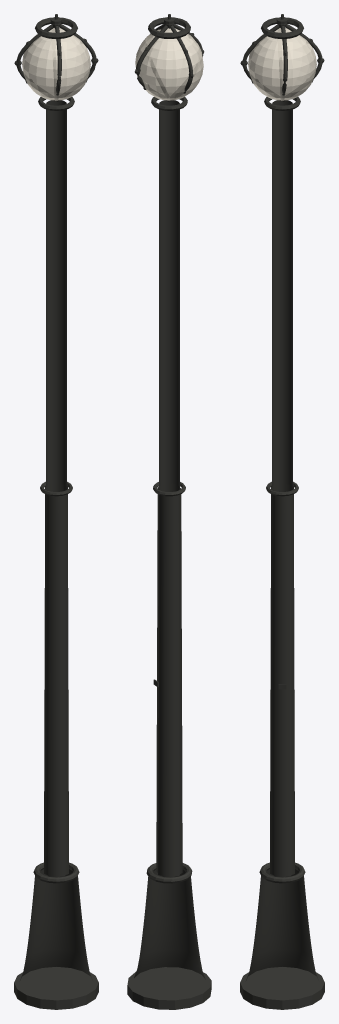
Rendered from cp_lamppost.glb.
3 views of the same model, side by side, from view 1: azimuth 90°, elevation 25°; view 2: azimuth 210°, elevation 25°; view 3: azimuth 270°, elevation 25° (orthographic).
Visible parts, largest first — view 1: CP_Lamppost; view 2: CP_Lamppost; view 3: CP_Lamppost.
Boxes of the visible parts, x1,y1,x2,y2 form: CP_Lamppost: (14, 14, 98, 1009); CP_Lamppost: (127, 14, 211, 1009); CP_Lamppost: (240, 14, 324, 1009).
Size of the model in its own units: 0.32 by 4.07 by 0.32.
